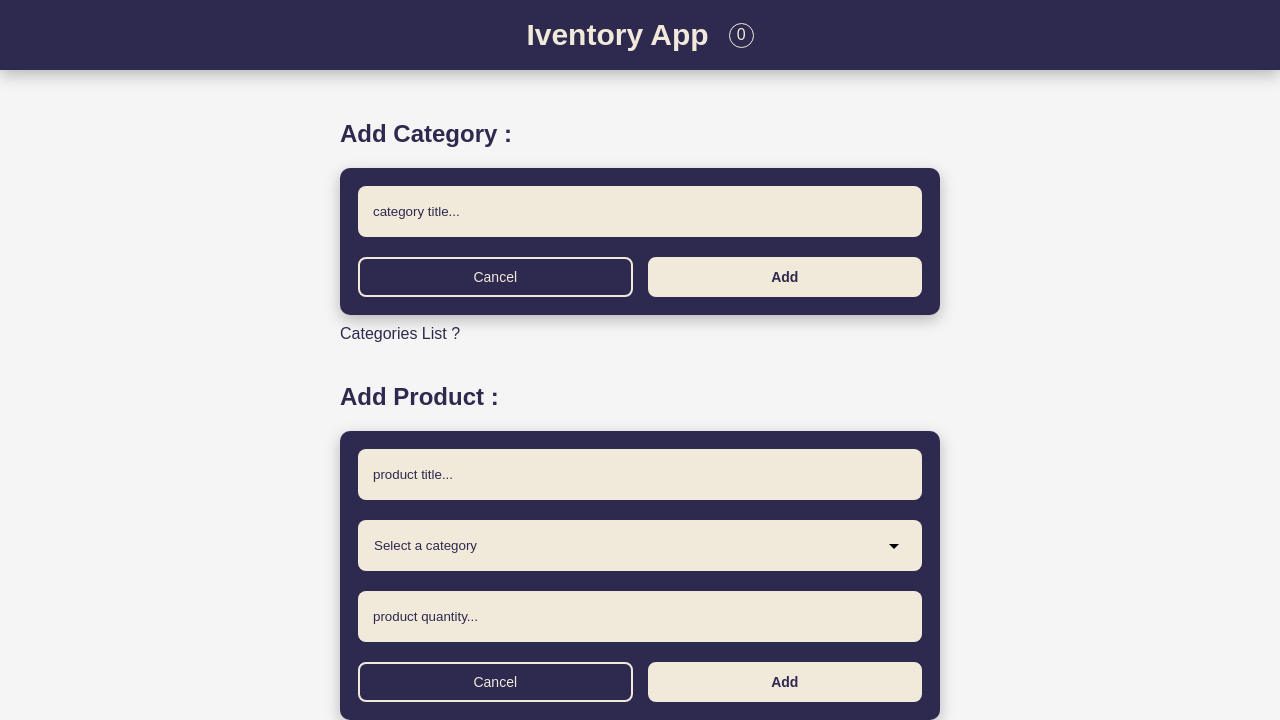
Test case: Add And Remove Category › Should Remove Category
This screenshot has width=1280, height=720.
Open categories list modal
Click the text "Categories List ?" at (400, 334), box [340,325,460,343]
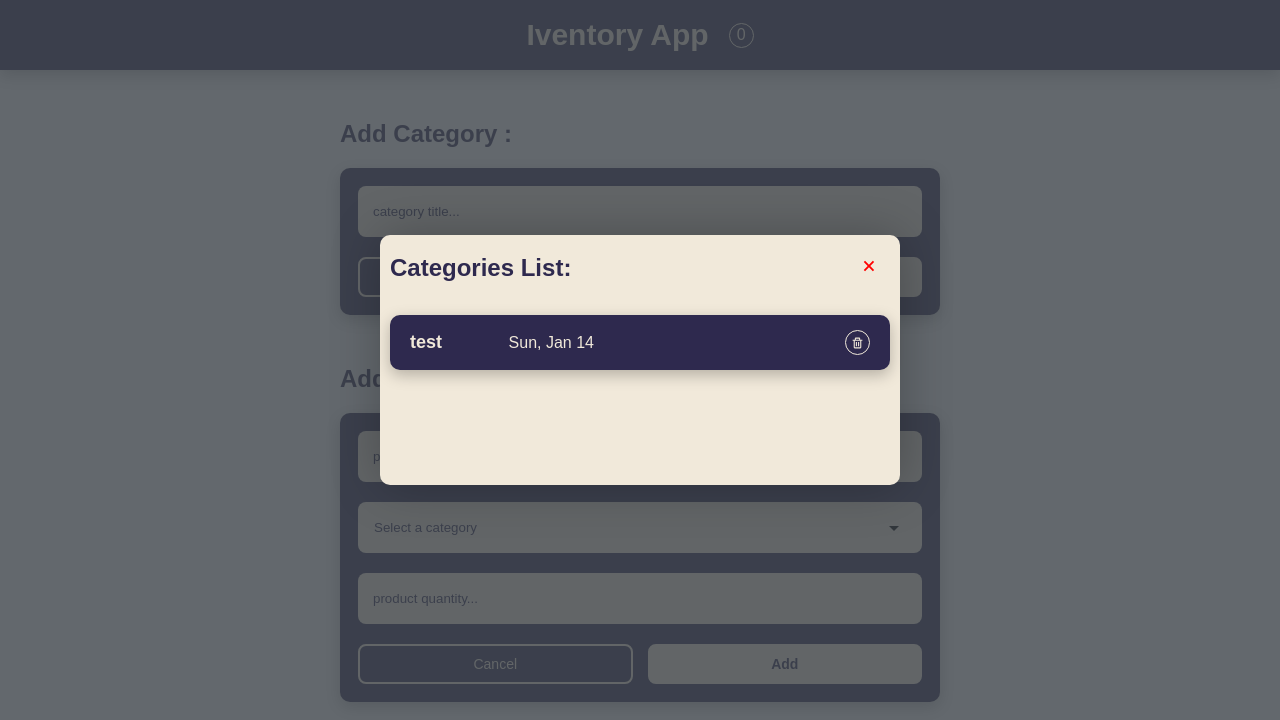
Click the button with test id "delete-category-btn" at (858, 342), box [845,330,870,355]
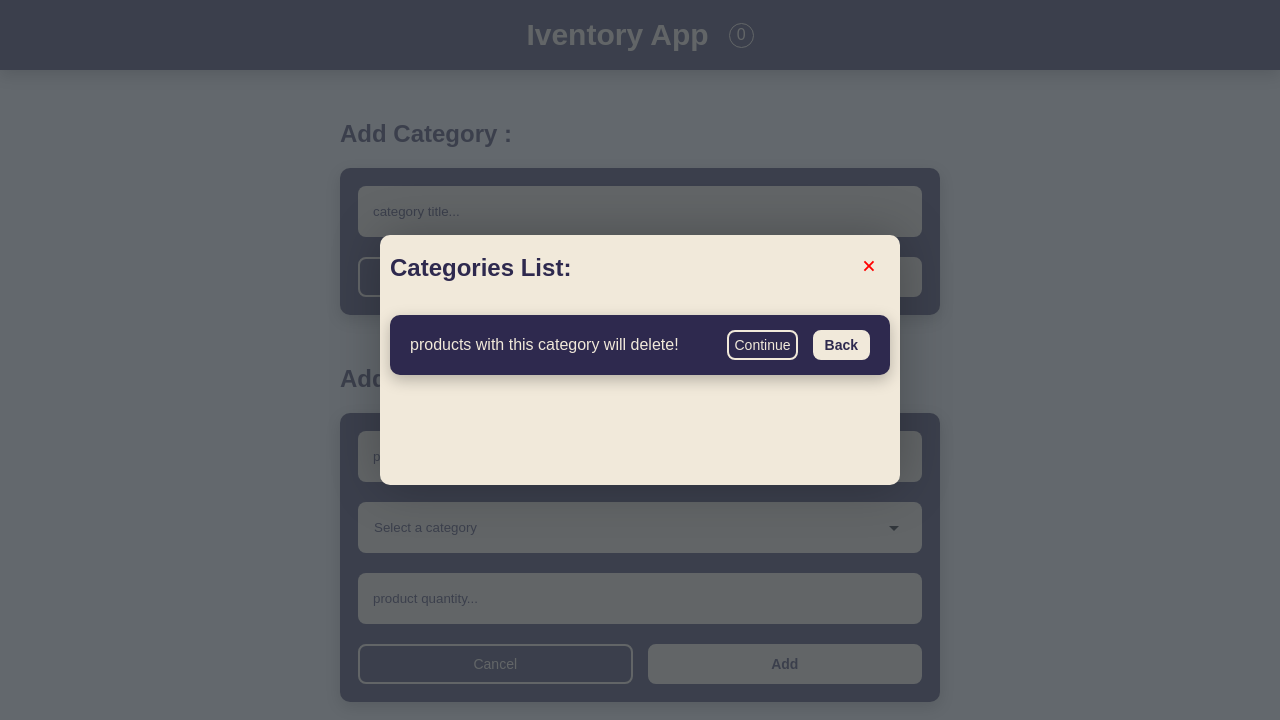
Click the button with test id "final-delete-category-btn" at (762, 345), box [728,330,798,360]
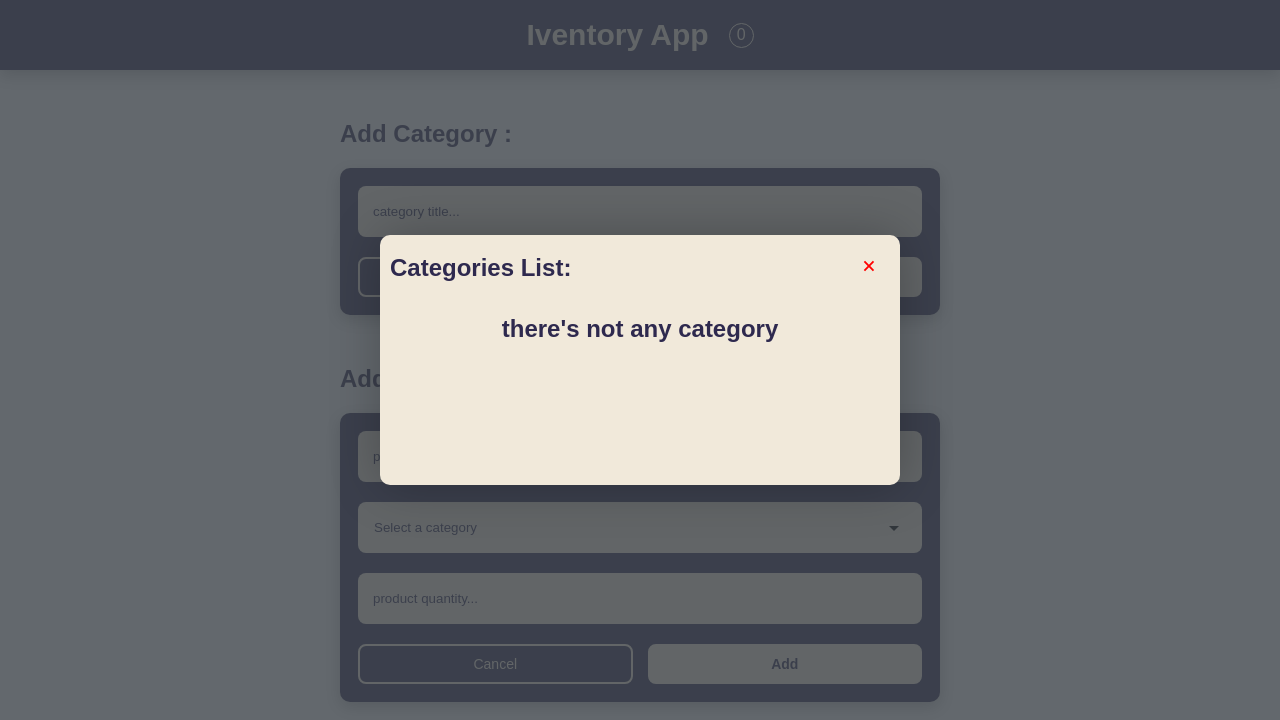
Expected: the element with test id "category-item" is gone
